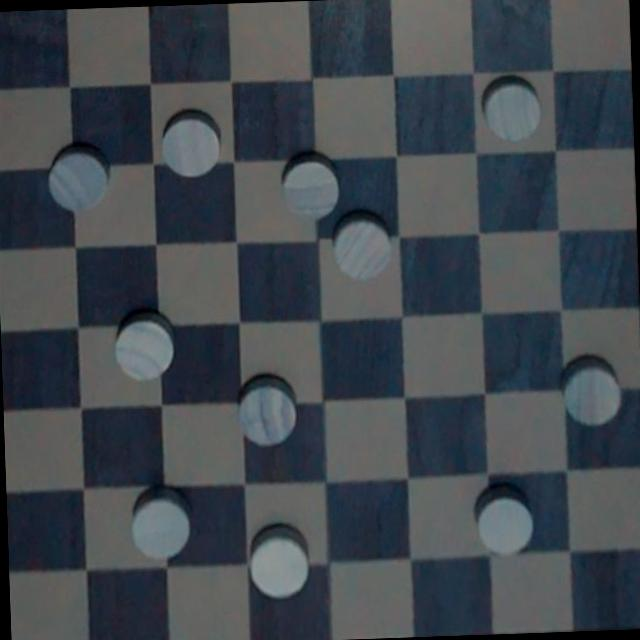BOARD: (0, 0, 640, 640)
white: (118, 477, 201, 573), (469, 481, 546, 562), (109, 300, 181, 386), (556, 345, 630, 428), (246, 515, 314, 602), (328, 207, 403, 285), (232, 370, 304, 451), (274, 142, 342, 224), (153, 108, 229, 178), (44, 142, 112, 220), (481, 73, 542, 144)
